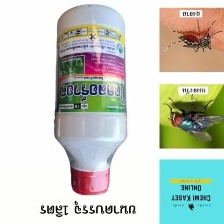insecticide: (52, 1, 128, 199)
